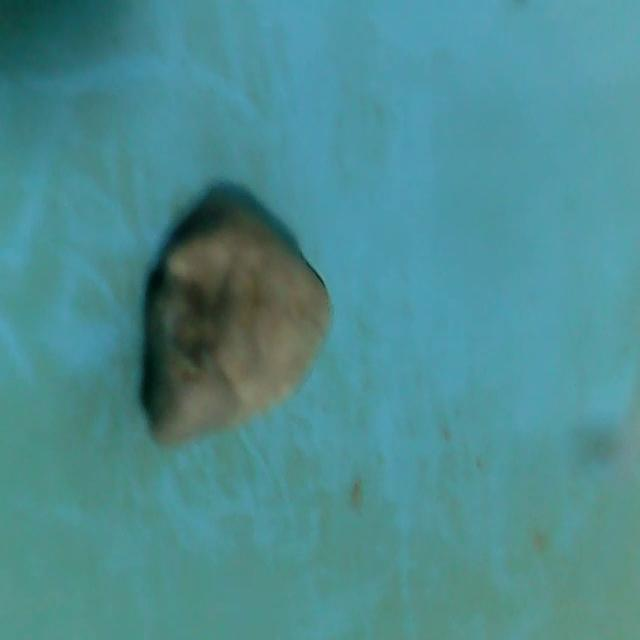rock: (120, 193, 338, 449)
